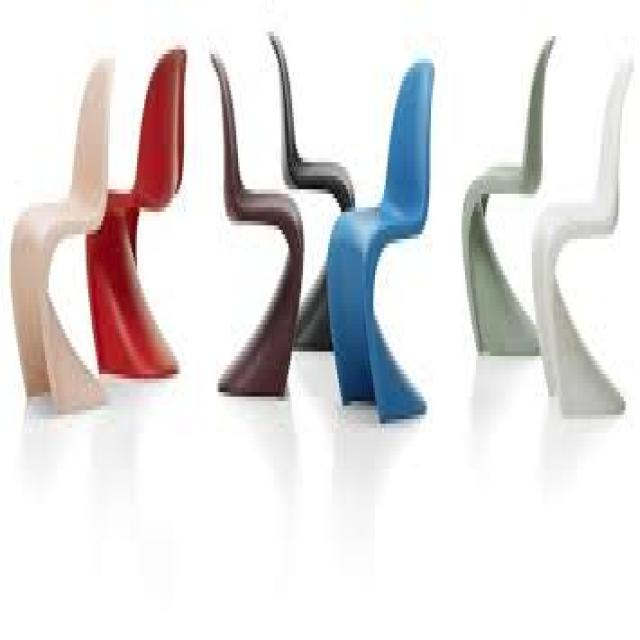chair: (503, 0, 640, 455), (0, 45, 134, 448), (319, 42, 441, 472), (194, 27, 311, 461), (72, 21, 198, 414), (440, 22, 566, 396), (254, 18, 366, 396)
